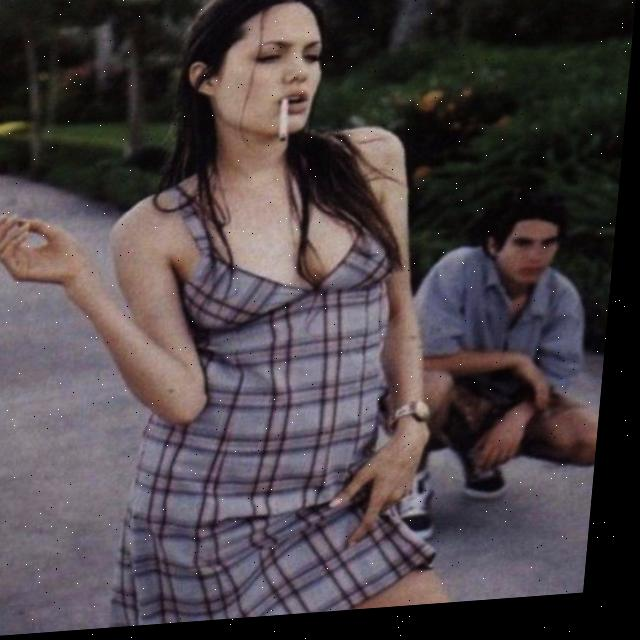cigarette: (280, 103, 294, 147)
